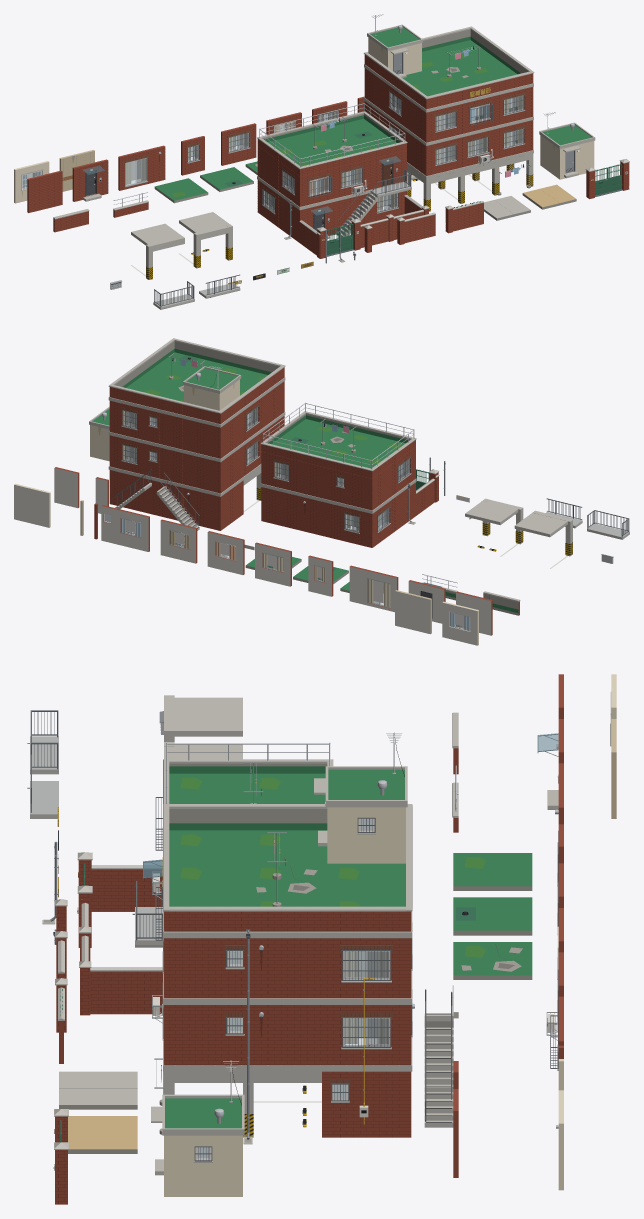
File: SeoulCorner_VillaModular.glb
3 views of the same model, one above another, from view 1: azimuth 30°, elevation 25°; view 2: azimuth 150°, elevation 25°; view 3: azimuth 270°, elevation 25° (orthographic). The views are drawn at different scales.
Parts seen in each view (by area): view 1: SC_Bld_Villa_Prefab_Villa_3F, SC_Bld_Villa_Prefab_House_2F, SC_Bld_Villa_Roof_Door_Hut, SC_Bld_Villa_Wall_Brick_Door_3m, SC_Bld_Villa_Wall_Brick_Window_3m, SC_Bld_Villa_Wall_Brick_3m, SC_Bld_Villa_Wall_Brick_Door_Sliding_3m, SC_Bld_Villa_Gate_Green, SC_Bld_Villa_Pilotis_Bay_3x3_Back, SC_Bld_Villa_Pilotis_Bay_3x3, SC_Bld_Villa_Fence_Wall_3m_Glass, SC_Bld_Villa_Fence_Wall_3m (+14 smaller); view 2: SC_Bld_Villa_Prefab_Villa_3F, SC_Bld_Villa_Prefab_House_2F, SC_Bld_Villa_Wall_Brick_Window_AC_3m, SC_Bld_Villa_Wall_Brick_Window_3m_White, SC_Bld_Villa_Wall_Render_Window_3m, SC_Bld_Villa_Wall_Tiled_3m, SC_Bld_Villa_Wall_Brick_Window_3m, SC_Bld_Villa_Wall_Brick_Window_Cage_3m, SC_Bld_Villa_Wall_Render_3m, SC_Bld_Villa_Wall_Brick_Door_Sliding_3m, SC_Bld_Villa_Pilotis_Bay_3x3, SC_Bld_Villa_Pilotis_Bay_3x3_Back (+12 smaller); view 3: SC_Bld_Villa_Prefab_Villa_3F, SC_Bld_Villa_Prefab_House_2F, SC_Bld_Villa_Roof_Door_Hut, SC_Bld_Villa_Pilotis_Bay_3x3, SC_Bld_Villa_Stairs_Exterior_Left, SC_Bld_Villa_Roof_Slab_3x3_Drain, SC_Bld_Villa_Floor_Slab_3x3, SC_Bld_Villa_Roof_Slab_3x3, SC_Bld_Villa_Roof_Slab_3x3_Worn, SC_Bld_Villa_Floor_Slab_3x3_Jangpan, SC_Bld_Villa_Balcony_3m, SC_Bld_Villa_Gate_Green (+4 smaller).
Part boxes in pixels (x1,y1,x2,y2): SC_Bld_Villa_Prefab_Villa_3F: (363,14,534,211); SC_Bld_Villa_Prefab_House_2F: (257,103,429,258); SC_Bld_Villa_Roof_Door_Hut: (539,112,595,179); SC_Bld_Villa_Wall_Brick_Door_3m: (72,159,108,201); SC_Bld_Villa_Wall_Brick_Window_3m: (221,123,256,165); SC_Bld_Villa_Wall_Brick_3m: (27,170,62,212); SC_Bld_Villa_Wall_Brick_Door_Sliding_3m: (118,148,153,190); SC_Bld_Villa_Gate_Green: (585,159,629,199); SC_Bld_Villa_Pilotis_Bay_3x3_Back: (179,212,232,268); SC_Bld_Villa_Pilotis_Bay_3x3: (131,223,184,279); SC_Bld_Villa_Fence_Wall_3m_Glass: (445,201,484,233); SC_Bld_Villa_Fence_Wall_3m: (397,212,435,244); SC_Bld_Villa_Prefab_Villa_3F: (108,338,285,530); SC_Bld_Villa_Prefab_House_2F: (260,402,439,547); SC_Bld_Villa_Wall_Brick_Window_AC_3m: (160,519,197,563); SC_Bld_Villa_Wall_Brick_Window_3m_White: (207,531,244,574); SC_Bld_Villa_Wall_Render_Window_3m: (442,601,478,645); SC_Bld_Villa_Wall_Tiled_3m: (395,590,431,634); SC_Bld_Villa_Wall_Brick_Window_3m: (255,542,291,586); SC_Bld_Villa_Wall_Brick_Window_Cage_3m: (113,508,149,551); SC_Bld_Villa_Wall_Render_3m: (14,483,50,527); SC_Bld_Villa_Wall_Brick_Door_Sliding_3m: (361,568,398,612); SC_Bld_Villa_Pilotis_Bay_3x3: (514,510,572,568); SC_Bld_Villa_Pilotis_Bay_3x3_Back: (465,500,523,556); SC_Bld_Villa_Prefab_Villa_3F: (152,732,414,1144); SC_Bld_Villa_Prefab_House_2F: (77,742,333,1015); SC_Bld_Villa_Roof_Door_Hut: (151,1060,244,1196); SC_Bld_Villa_Pilotis_Bay_3x3: (164,695,242,741); SC_Bld_Villa_Stairs_Exterior_Left: (424,1001,453,1127); SC_Bld_Villa_Roof_Slab_3x3_Drain: (453,897,532,935); SC_Bld_Villa_Floor_Slab_3x3: (59,1071,137,1109); SC_Bld_Villa_Roof_Slab_3x3: (453,853,532,890); SC_Bld_Villa_Roof_Slab_3x3_Worn: (453,942,532,979); SC_Bld_Villa_Floor_Slab_3x3_Jangpan: (68,1116,137,1153); SC_Bld_Villa_Balcony_3m: (27,710,58,774); SC_Bld_Villa_Gate_Green: (53,1109,68,1204).
Size of the model in its own units: 43.23 by 13.18 by 22.41.
Materials: 4 (4 with a texture image).
